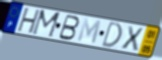B: (57, 13, 81, 41)
D: (100, 21, 123, 49)
H: (15, 8, 42, 36)
M: (30, 9, 63, 39), (76, 17, 103, 46)
X: (120, 25, 145, 53)
